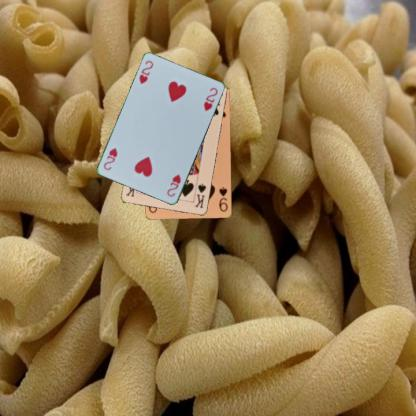2h: (136, 58, 154, 86), (165, 172, 182, 198)
9s: (217, 184, 228, 213)
Ks: (192, 181, 208, 210)
